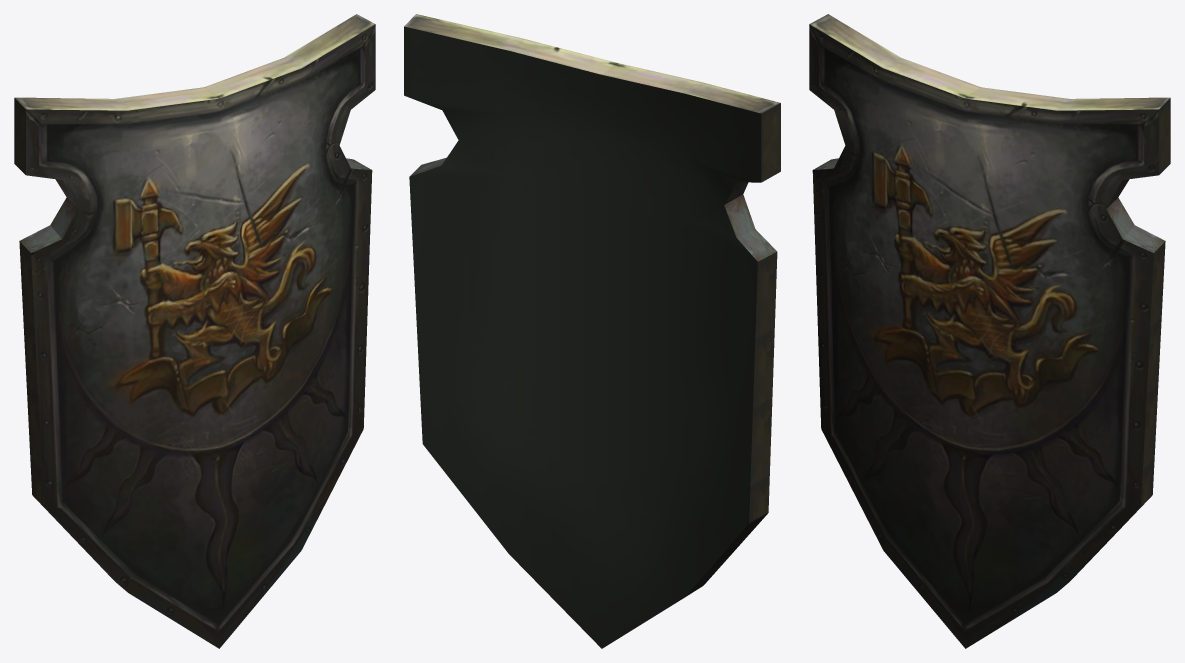
The model's file is dun.FBX.
3 views of the same model, side by side, from view 1: azimuth 30°, elevation 25°; view 2: azimuth 150°, elevation 25°; view 3: azimuth 330°, elevation 25° (orthographic). The views are drawn at different scales.
Parts seen in each view (by area): view 1: dun01; view 2: dun01; view 3: dun01.
Boxes of the visible parts, x1,y1,x2,y2 form: dun01: [14, 14, 375, 648]; dun01: [404, 14, 780, 648]; dun01: [809, 14, 1170, 648].
Bounding box in the file's own units: 7.73 × 12 × 1.3.
